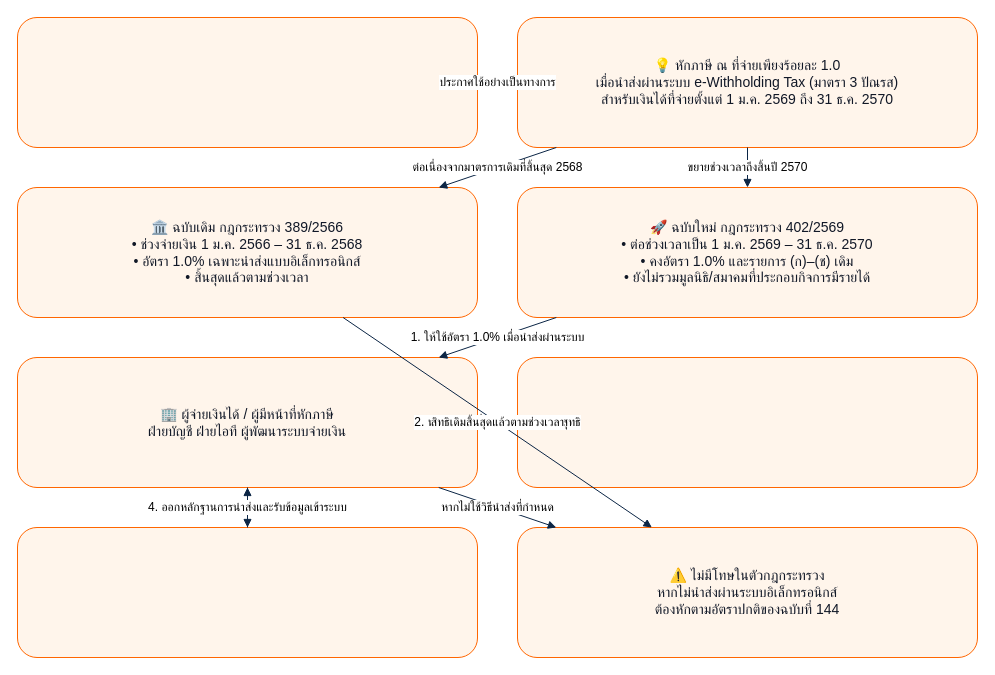
This 995x675 diagram has some shape labels left out. Each missing label, with the centre of its shape:
🏛️ กรมสรรพากร ระบบ e-Withholding Tax: point (247, 592)
👤 ผู้รับเงินได้ บริษัท ผู้ประกอบการ นักแสดงสาธารณะ: point (747, 422)
📜 กฎกระทรวง ฉบับที่ 402 พ.ศ. 2569 ราชกิจจาฯ 9 ต.ค. 2569 · ให้ไว้ 1 ต.ค. 2569: point (247, 82)
